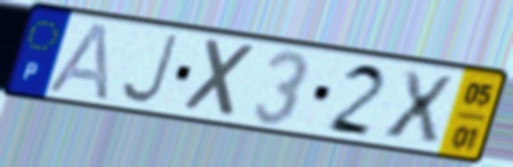2: (321, 62, 391, 140)
3: (250, 45, 315, 131)
A: (44, 20, 113, 104)
J: (117, 31, 182, 106)
X: (180, 35, 261, 121), (380, 67, 457, 146)
